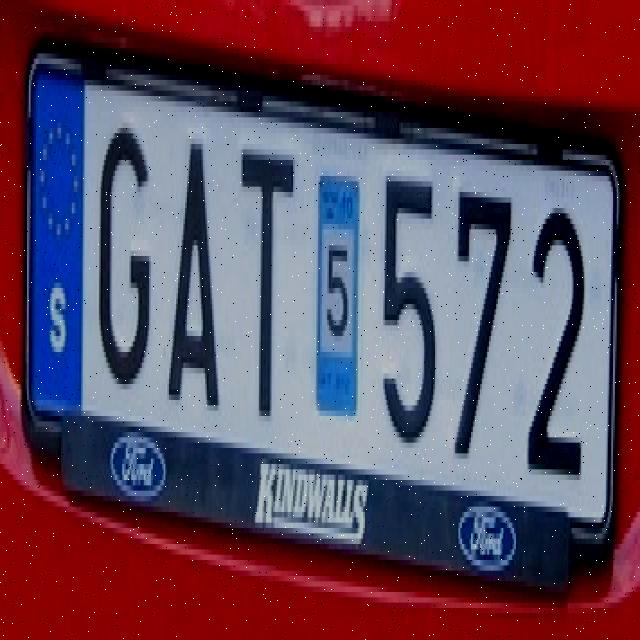licenseplate: (20, 9, 627, 606)
